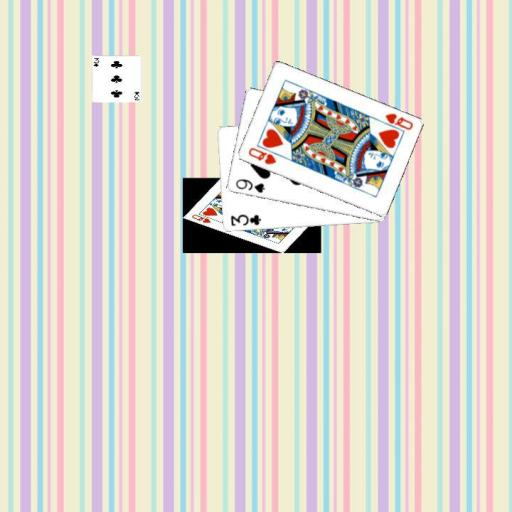3C: (228, 211, 262, 228)
9S: (232, 176, 266, 195)
QH: (375, 111, 414, 135), (245, 144, 277, 166)
